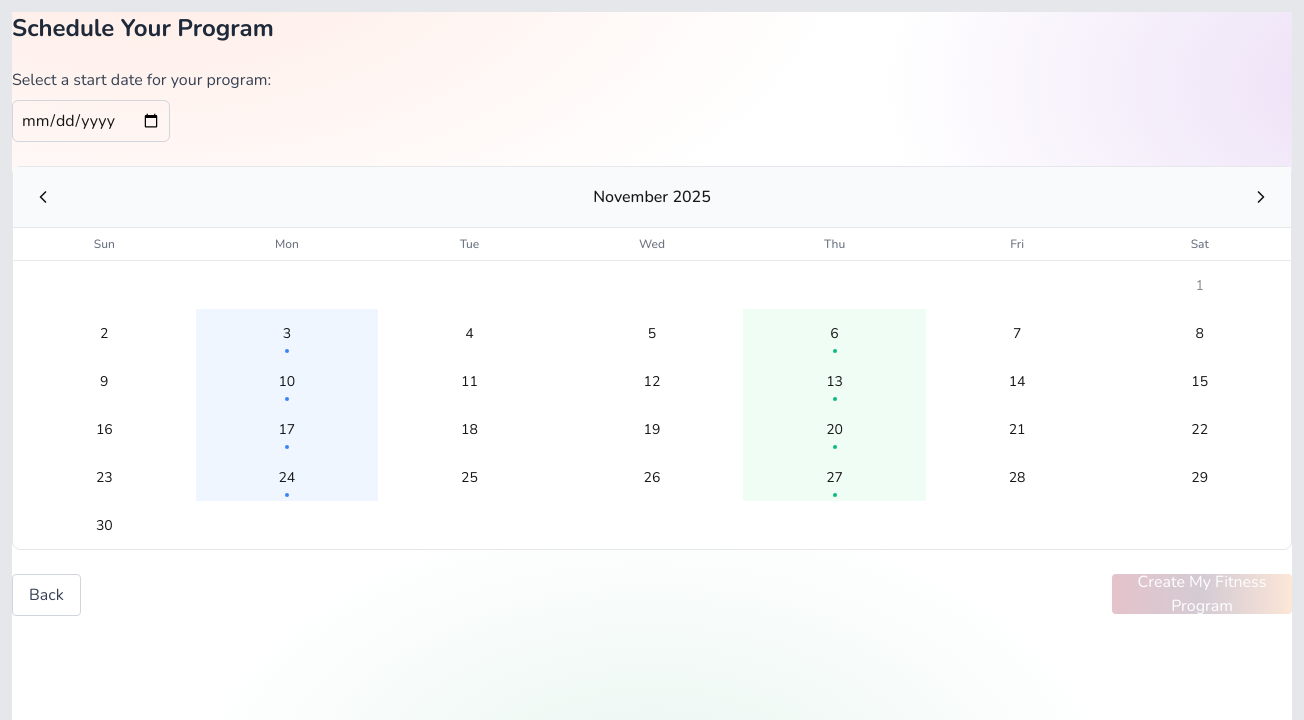
Test: CalendarView › shows program schedule preview when date is selected
Type "2024-12-25" into the date field at x=91, y=121, box [12, 100, 170, 142]
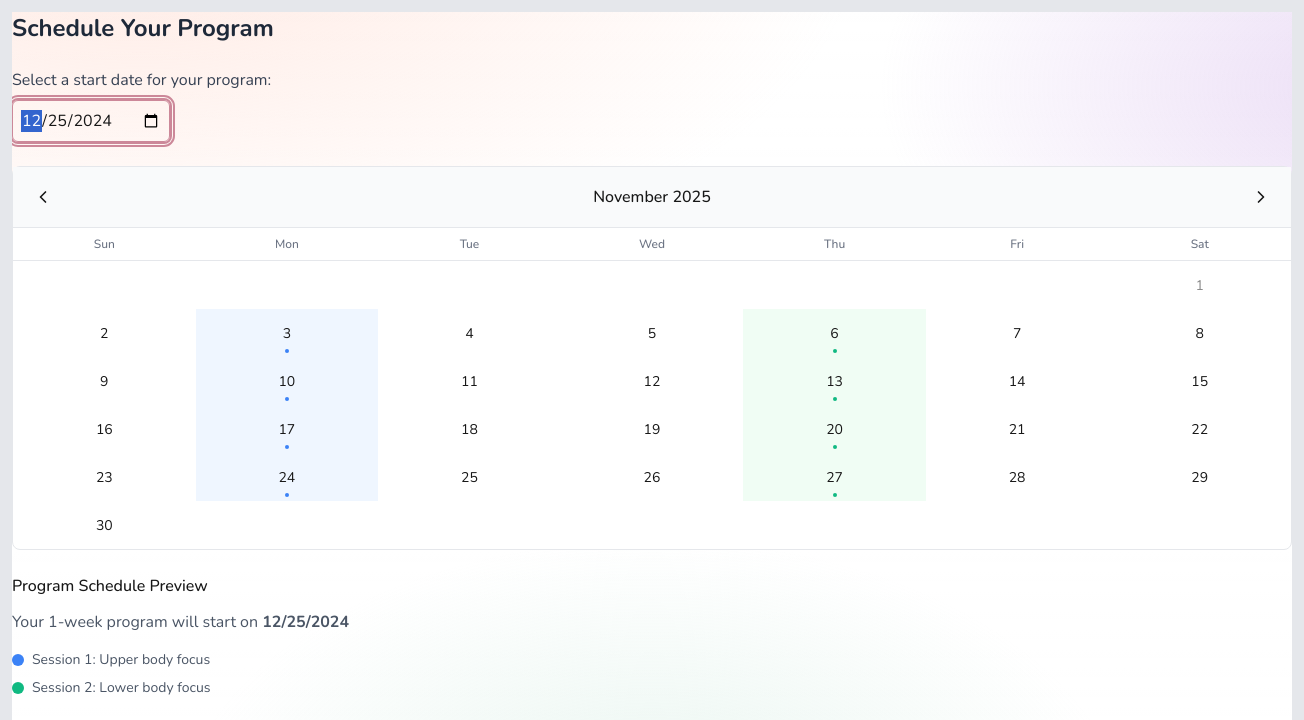
Check: the heading "Program Schedule Preview" is shown, box [12, 575, 208, 597]
Check: the text "Your 1-week program will start on 12/25/2024" is shown, box [12, 611, 349, 633]
Check: the text "Session 1: Upper body focus" is shown, box [32, 650, 210, 670]
